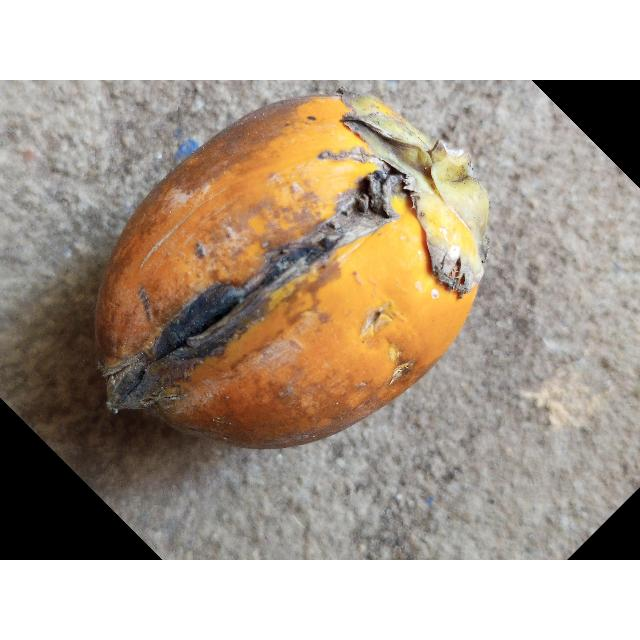damaged: (93, 95, 490, 452)
